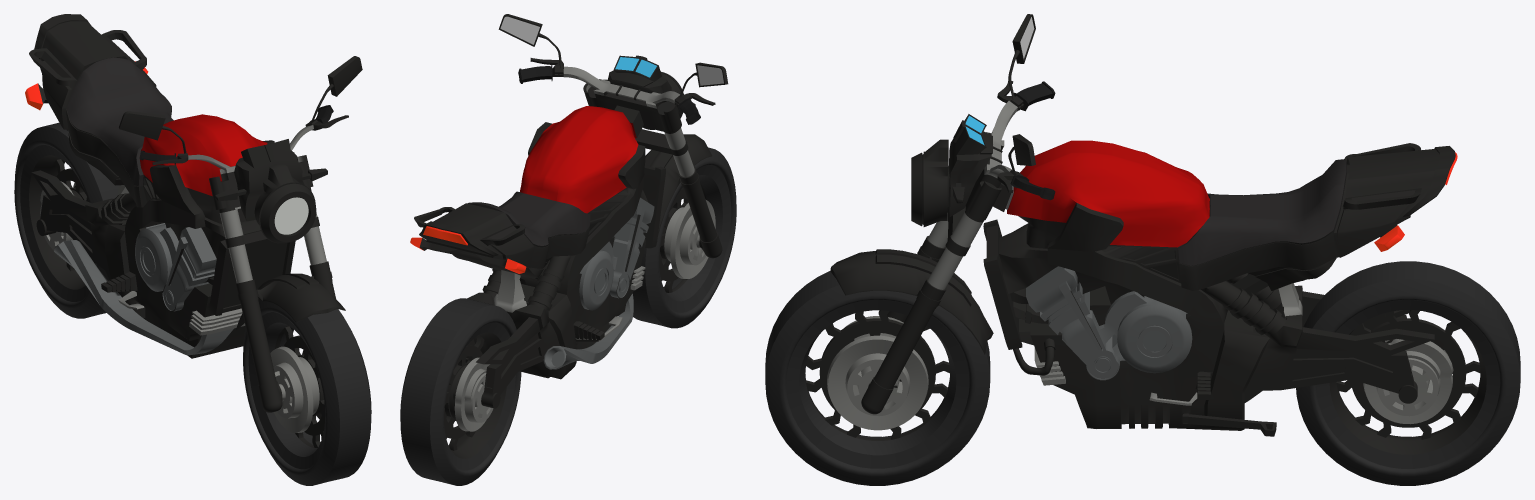
The model's file is Honda CB650R .fbx.
3 renders of one model, left to right at view 1: azimuth 30°, elevation 25°; view 2: azimuth 150°, elevation 25°; view 3: azimuth 270°, elevation 25°, orthographic. The views are drawn at different scales.
Parts seen in each view (by area): view 1: Plane; view 2: Plane; view 3: Plane.
Boxes of the visible parts, x1,y1,x2,y2 form: Plane: (14, 14, 371, 485); Plane: (400, 14, 736, 485); Plane: (765, 14, 1520, 485).
Bounding box in the file's own units: 116 × 157 × 269.
